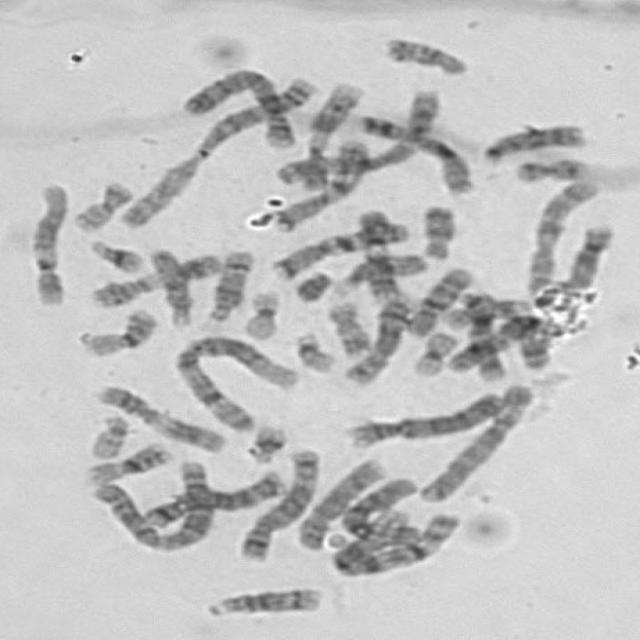A1: (163, 326, 302, 434), (320, 504, 465, 580)
A2: (111, 67, 317, 230), (83, 452, 218, 554)
A3: (273, 80, 446, 190), (438, 308, 564, 376)
B4: (336, 383, 516, 450), (172, 62, 300, 150)
B5: (230, 441, 324, 562), (134, 462, 290, 529)
C10: (515, 171, 604, 299), (399, 260, 476, 339)
C11: (86, 377, 231, 454), (82, 246, 227, 309)
C12: (21, 176, 72, 308), (454, 284, 510, 382)
C6: (410, 376, 539, 503), (330, 468, 422, 546)
C7: (263, 131, 371, 232), (262, 212, 410, 282)
C8: (285, 450, 391, 552), (335, 287, 417, 386)
C9: (292, 75, 366, 193), (349, 202, 403, 303)
D13: (474, 115, 589, 165), (553, 216, 618, 292)
D14: (197, 580, 327, 620), (200, 242, 258, 322)
D15: (324, 245, 432, 298), (140, 240, 195, 329)
E16: (76, 433, 175, 486), (72, 300, 161, 357)
E17: (438, 291, 539, 331), (319, 294, 374, 358)
E18: (374, 29, 471, 77), (411, 196, 460, 261)
F19: (404, 324, 462, 378), (234, 282, 284, 341)
F20: (62, 173, 136, 232), (507, 150, 592, 184)
G21: (80, 232, 150, 275), (238, 416, 290, 464)
G22: (79, 407, 133, 460), (287, 325, 339, 374)
X: (345, 106, 476, 196)
Y: (286, 263, 336, 304)
